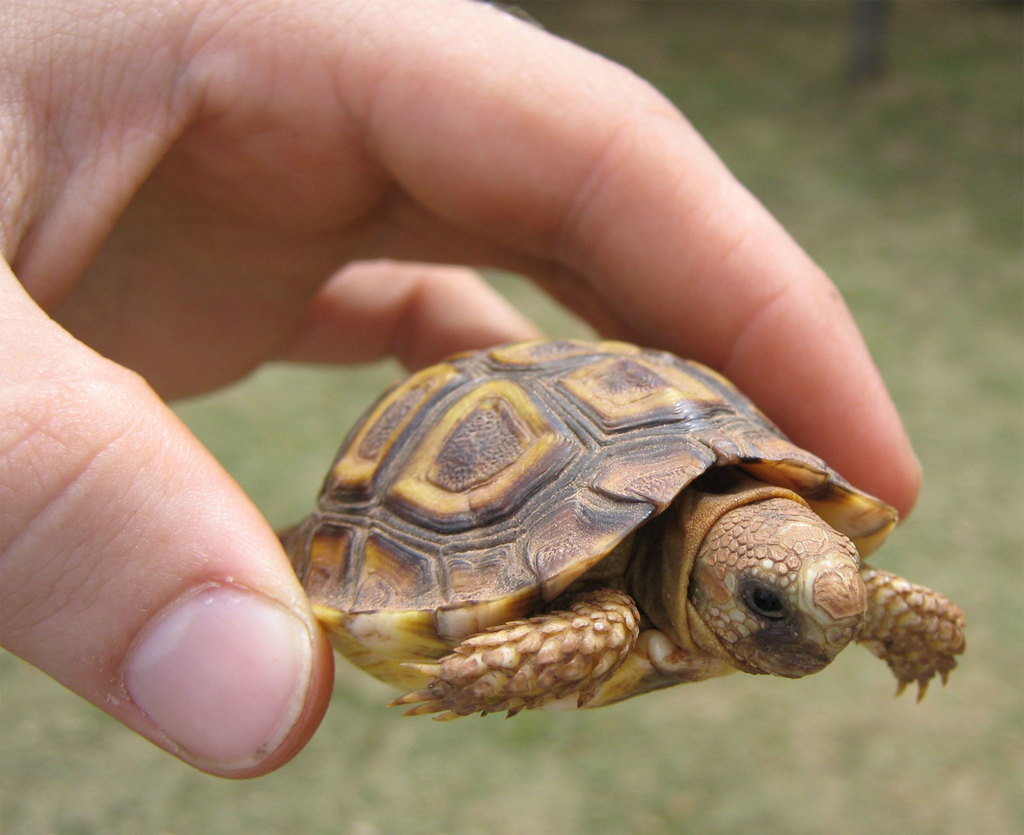Sea turtles: (275, 334, 971, 724)
